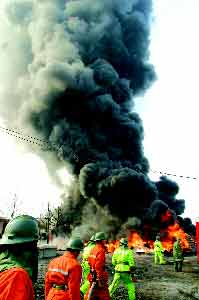fire: (84, 219, 194, 254)
smoke: (16, 5, 164, 207)
